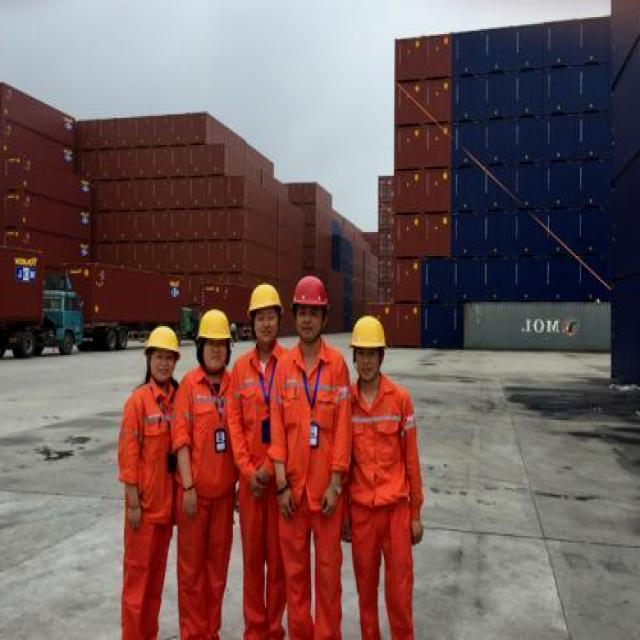face_nomask: (354, 348, 382, 386), (147, 350, 178, 380), (202, 339, 227, 374), (253, 307, 276, 345), (296, 309, 320, 345)
hand_noglove: (315, 479, 343, 519), (124, 491, 145, 536), (245, 462, 268, 503), (404, 514, 428, 548), (275, 481, 293, 524), (179, 483, 200, 519)
head_helmet: (193, 304, 234, 345), (141, 324, 182, 360), (292, 270, 330, 307), (346, 316, 389, 348), (242, 280, 280, 314)
person: (166, 300, 238, 635), (343, 312, 417, 637), (116, 309, 186, 638), (283, 269, 342, 632), (236, 272, 288, 636)
vest: (272, 350, 350, 500), (344, 376, 412, 500), (122, 381, 178, 517), (179, 367, 234, 495), (233, 352, 285, 484)
